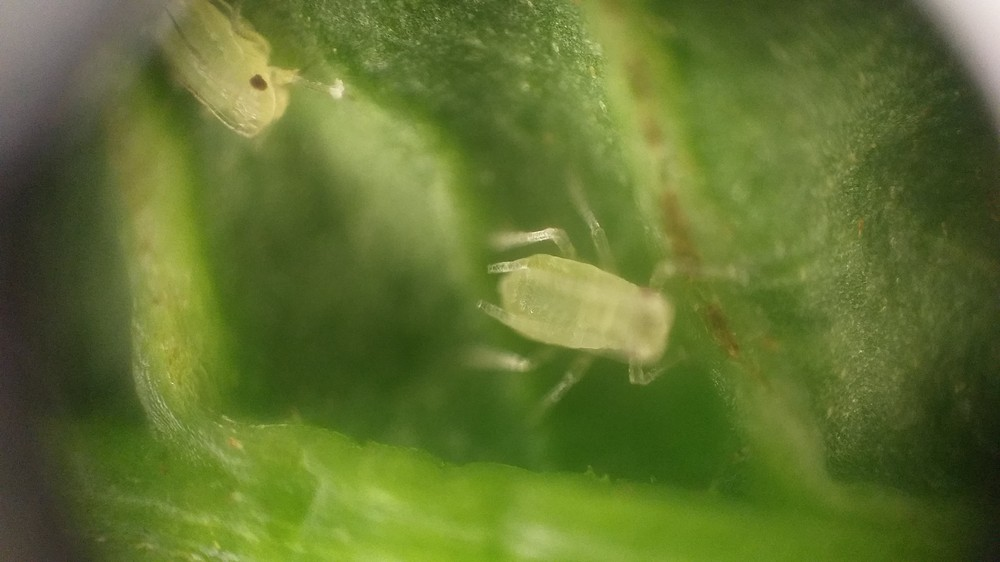Pulgon: (427, 199, 764, 442), (125, 5, 366, 154)
